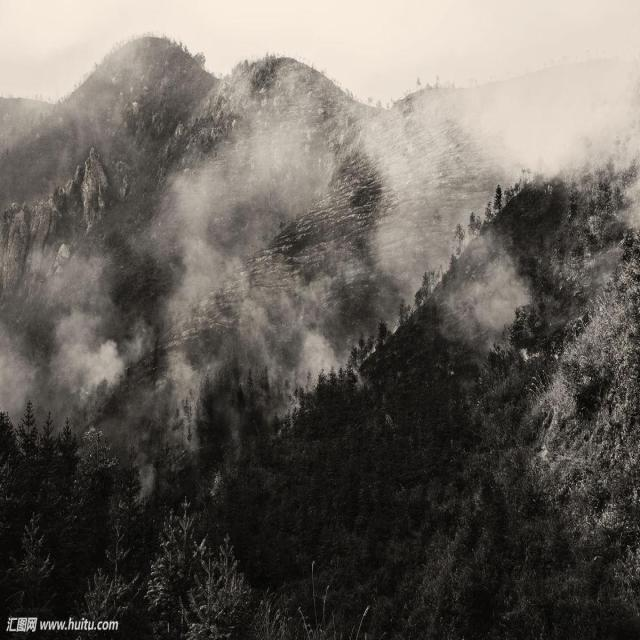Smoke: (455, 16, 627, 195), (33, 284, 120, 414), (171, 170, 247, 314)
